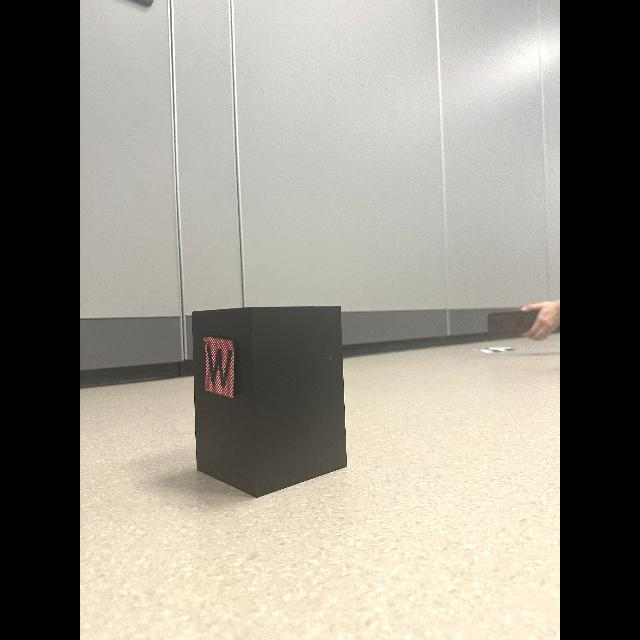W: (207, 346, 232, 388)
